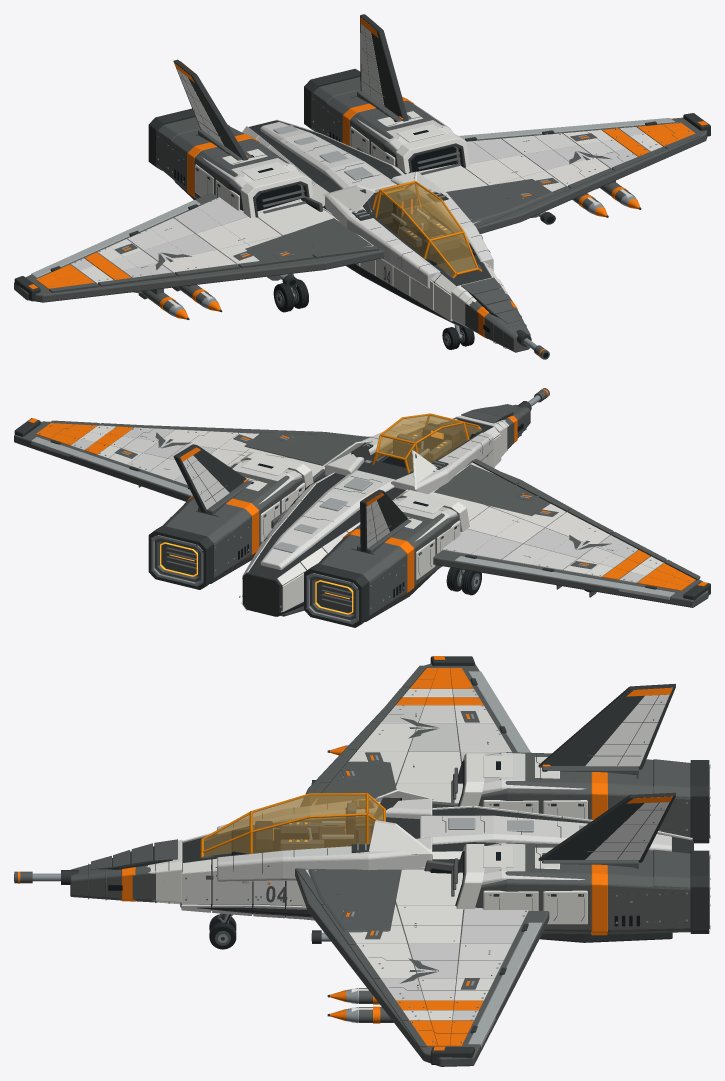
The model's file is 02_ARX4_Kestrel_Final.glb.
3 renders of one model, top to bottom at view 1: azimuth 30°, elevation 25°; view 2: azimuth 150°, elevation 25°; view 3: azimuth 270°, elevation 25°, orthographic. The views are drawn at different scales.
Visible parts, largest first — view 1: 02_ARX4_Kestrel_Final; view 2: 02_ARX4_Kestrel_Final; view 3: 02_ARX4_Kestrel_Final.
Part boxes in pixels (left/top/right/bottom): 02_ARX4_Kestrel_Final: left=14, top=14, right=710, bottom=359; 02_ARX4_Kestrel_Final: left=14, top=388, right=710, bottom=627; 02_ARX4_Kestrel_Final: left=14, top=656, right=710, bottom=1066.
Bounding box in the file's own units: 19.25 × 4.61 × 14.24.
